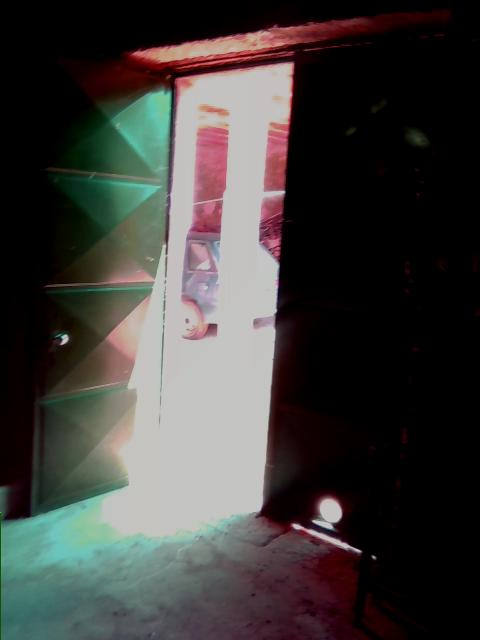open_door: (138, 49, 301, 518)
